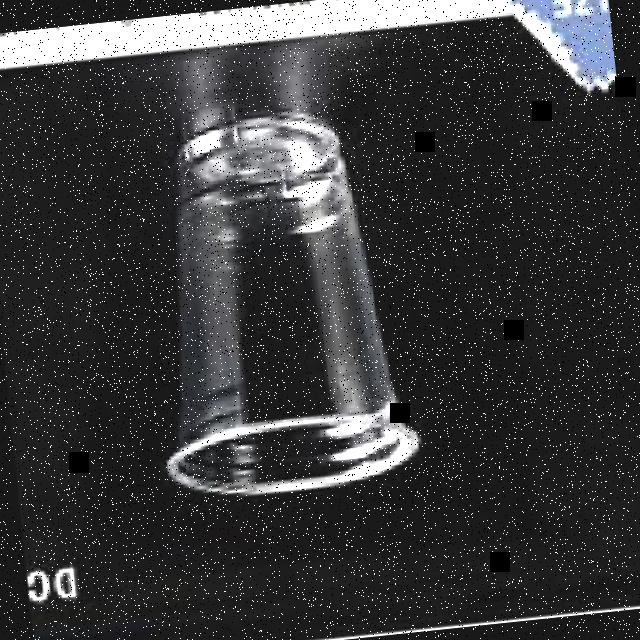plastic_box: (126, 100, 420, 503)
